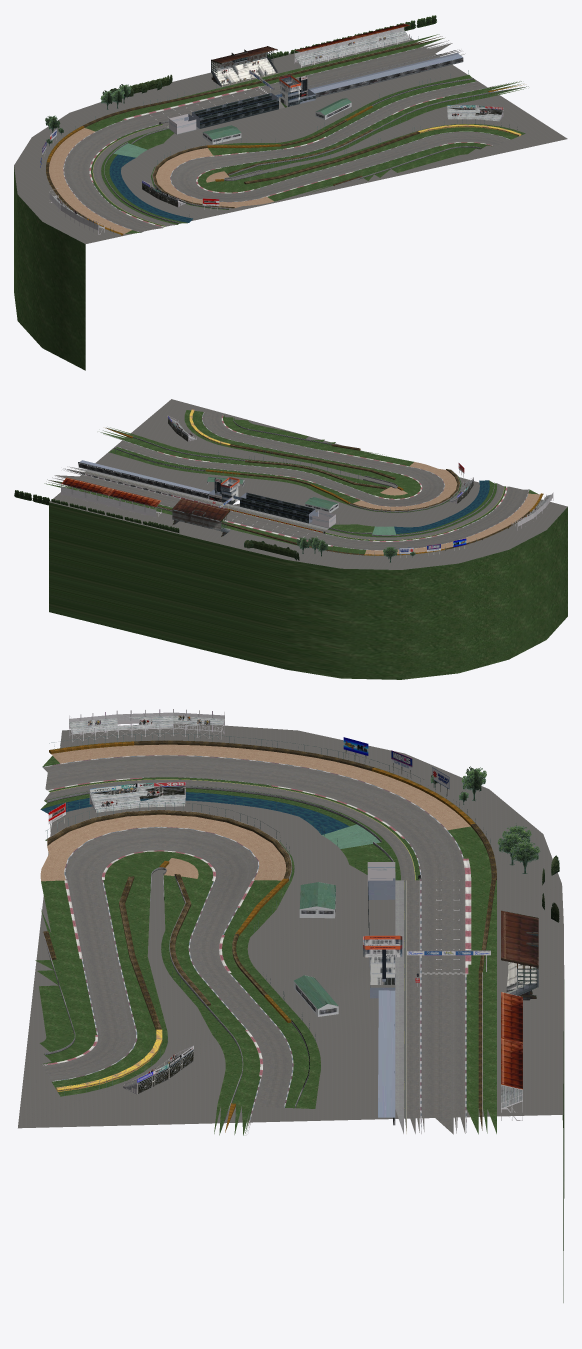
File: tsukubac1.glb
3 renders of one model, top to bottom at view 1: azimuth 30°, elevation 25°; view 2: azimuth 150°, elevation 25°; view 3: azimuth 270°, elevation 25°, orthographic. The views are drawn at different scales.
Parts seen in each view (by area): view 1: tsukubac1; view 2: tsukubac1; view 3: tsukubac1.
Boxes of the visible parts, <box> form: tsukubac1: <box>14,15,567,370</box>; tsukubac1: <box>14,399,567,679</box>; tsukubac1: <box>18,709,564,1302</box>.
Size of the model in its own units: 500 by 143 by 270.
94 materials, 94 textured.
